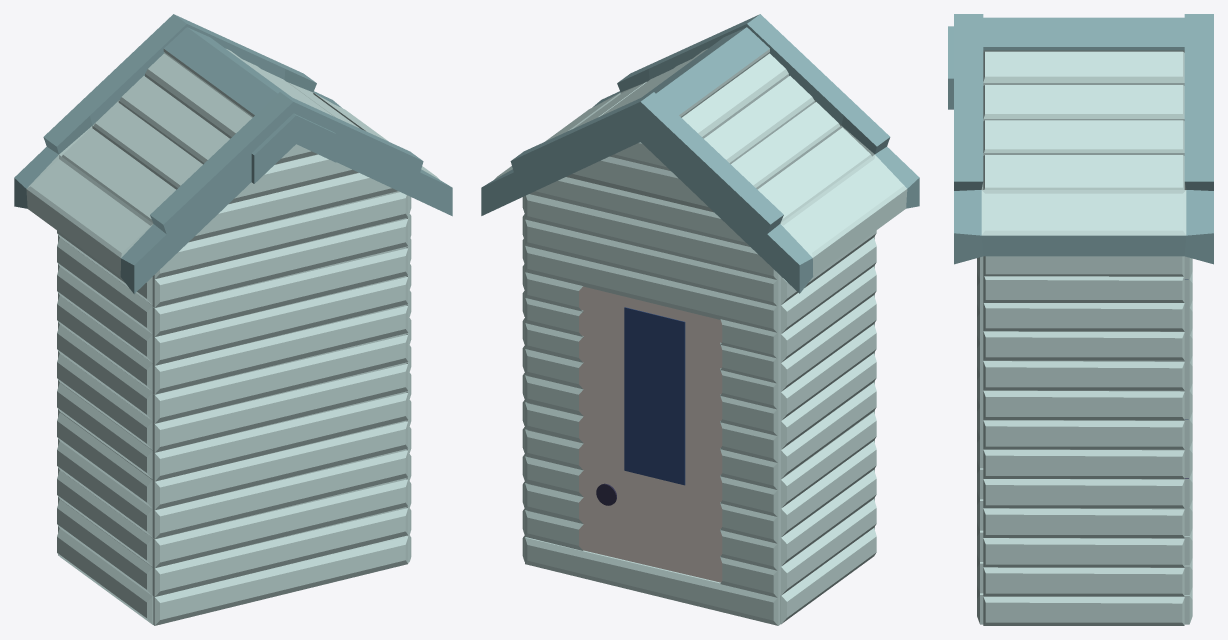
Rendered from beachhousewes.fbx.
The picture shows the model from 3 angles, left to right: view 1: azimuth 30°, elevation 25°; view 2: azimuth 150°, elevation 25°; view 3: azimuth 270°, elevation 25°; orthographic projection. The views are drawn at different scales.
Visible parts, largest first — view 1: house, rooftop1, rooftop planks, rooftop2; view 2: house, rooftop1, door, rooftop planks, window, rooftop2; view 3: house, rooftop planks, rooftop1, rooftop2.
Boxes of the visible parts, x1=… form: house: x1=26, y1=49, x2=411, y2=625; rooftop1: x1=14, y1=14, x2=452, y2=293; rooftop planks: x1=27, y1=49, x2=439, y2=257; rooftop2: x1=188, y1=27, x2=291, y2=97; house: x1=522, y1=49, x2=907, y2=625; rooftop1: x1=481, y1=14, x2=919, y2=293; door: x1=575, y1=286, x2=722, y2=582; rooftop planks: x1=494, y1=48, x2=906, y2=257; window: x1=624, y1=307, x2=685, y2=485; rooftop2: x1=643, y1=27, x2=746, y2=96; house: x1=977, y1=50, x2=1192, y2=625; rooftop planks: x1=981, y1=51, x2=1186, y2=235; rooftop1: x1=948, y1=14, x2=1213, y2=264; rooftop2: x1=983, y1=17, x2=1184, y2=50.
Size of the model in its own units: 397 by 595 by 264.
